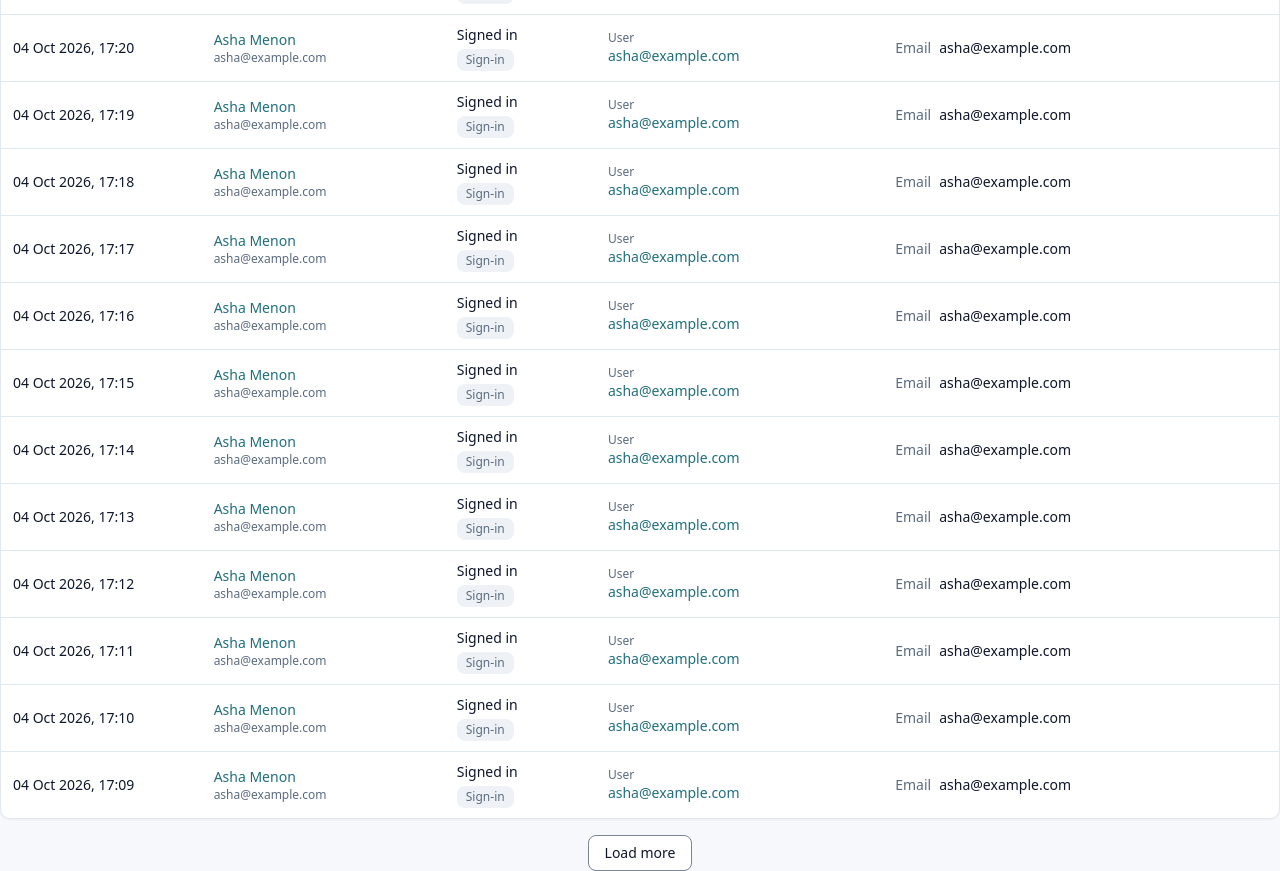
Test: AuditView › loads older entries a page at a time
(page scrolled)
Click the button "Load more".
click(640, 852)  # box [588, 834, 692, 870]
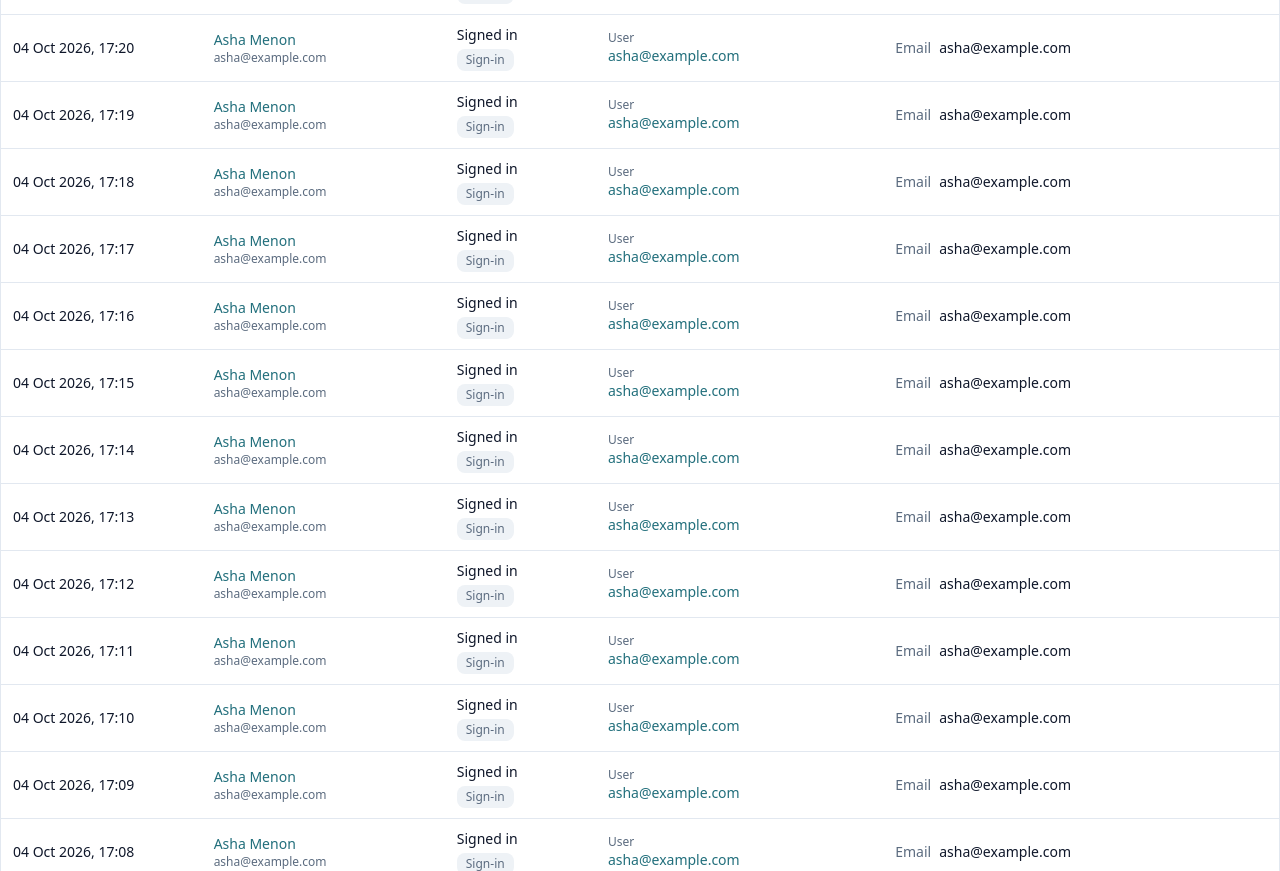
Expected: the button "Load more" is gone
